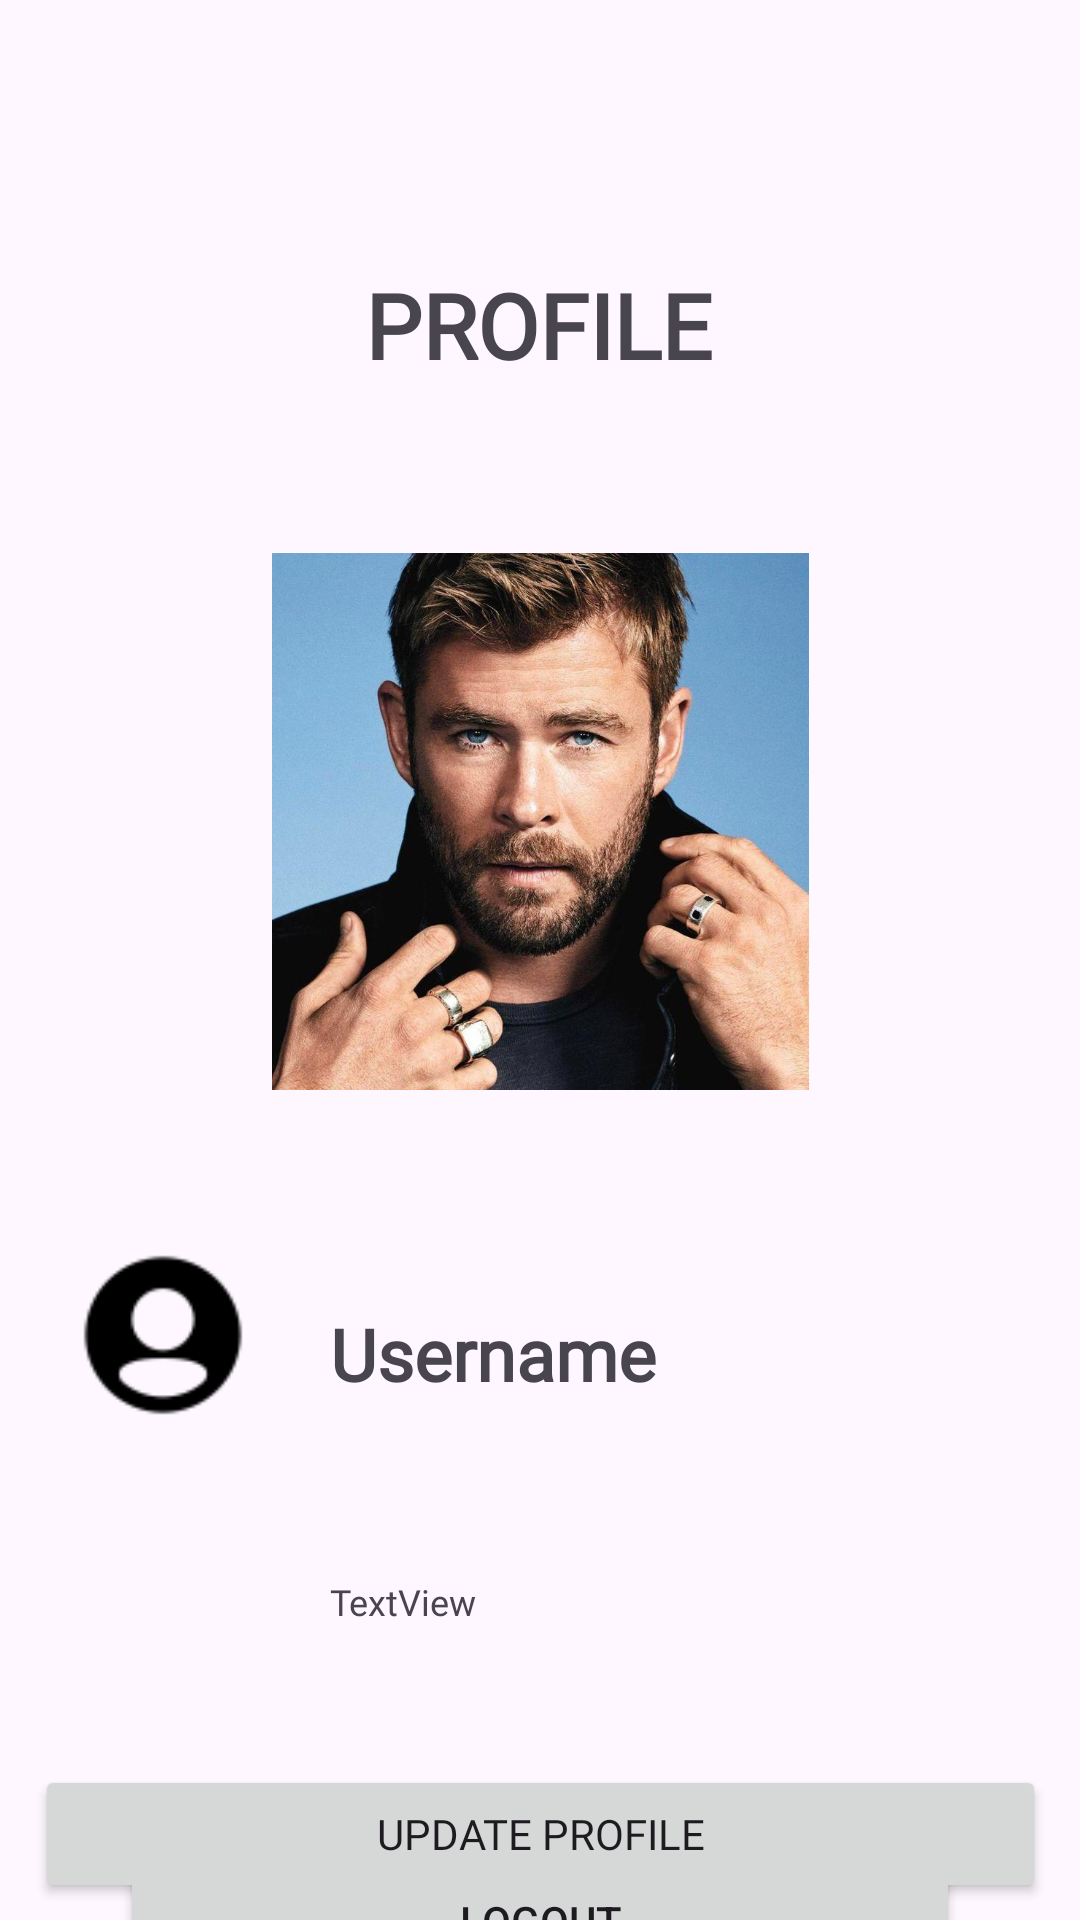

Where icons sit on this 1080x1920 app screen, as (x1, y1, x2, y2):
usericon: (84, 1256, 242, 1414)
